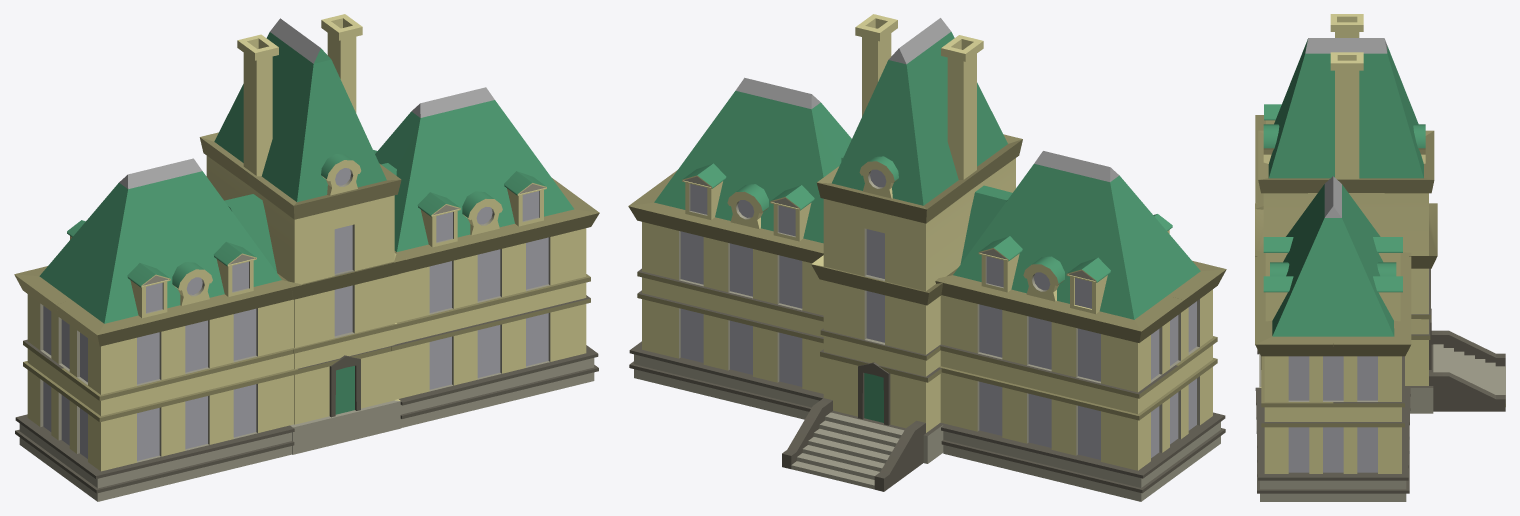
Rendered from Palace.glb.
3 renders of one model, left to right at view 1: azimuth 30°, elevation 25°; view 2: azimuth 150°, elevation 25°; view 3: azimuth 270°, elevation 25°, orthographic. The views are drawn at different scales.
Visible parts, largest first — view 1: SM_Palace; view 2: SM_Palace; view 3: SM_Palace.
Boxes of the visible parts, <box> form: SM_Palace: <box>14,14,599,501</box>; SM_Palace: <box>628,14,1226,501</box>; SM_Palace: <box>1255,14,1505,501</box>.
Size of the model in its own units: 52.39 by 37.33 by 24.2.
